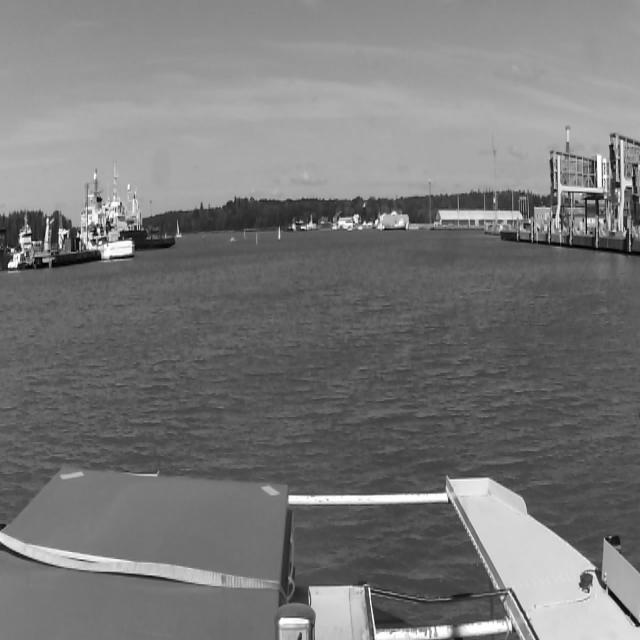buoy: (255, 233, 258, 246), (278, 226, 280, 241)
ship: (81, 167, 135, 261), (176, 220, 182, 238), (229, 234, 235, 242)
